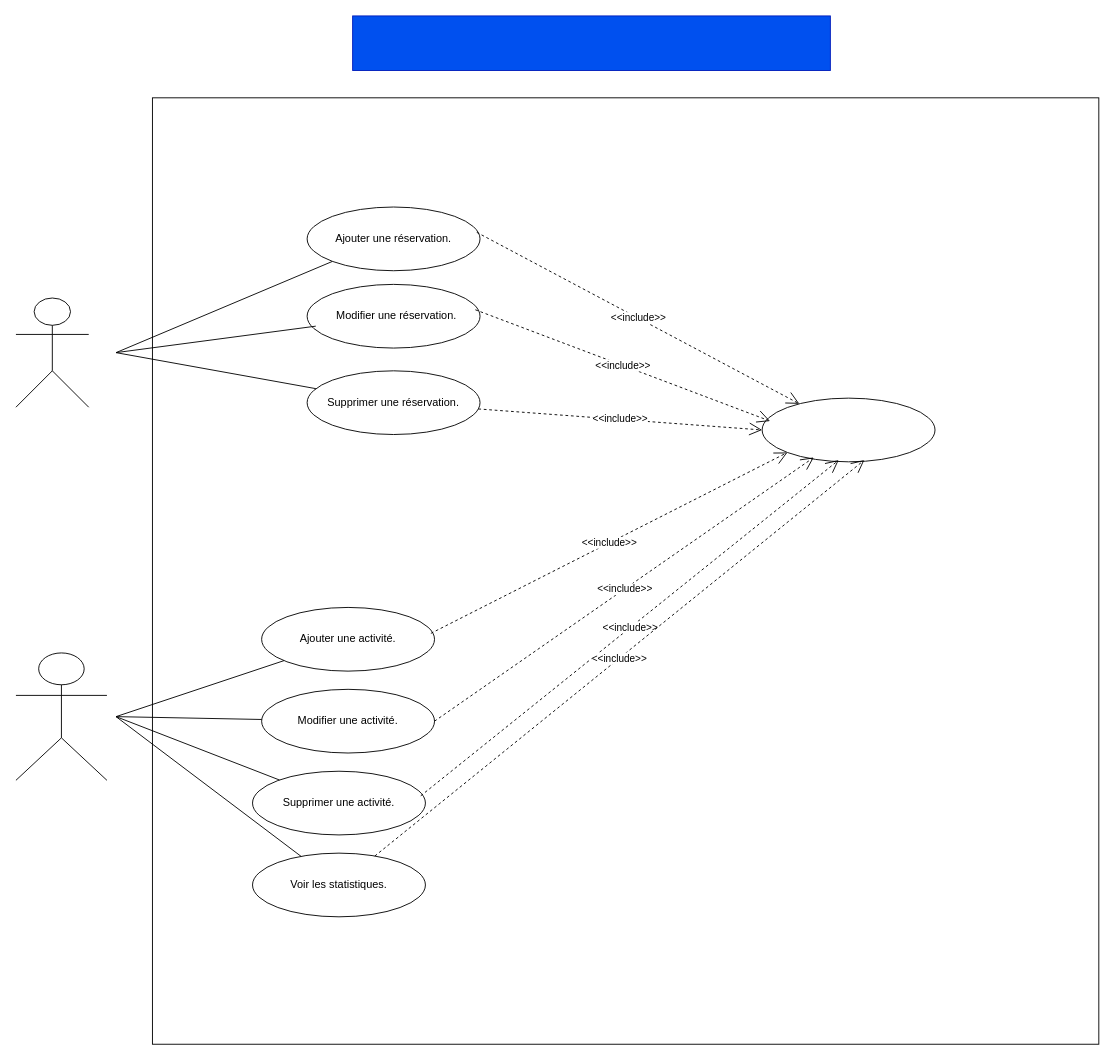
Some shapes in this 1115 by 1060 pixel diagram are drawn without their labels. The shapes that lost their labels are listed below. From the top down, each one's centre as x and y in pixels, then its label:
pixel 591 43: Système de gestion de la salle de sport "The Lost Round"
pixel 52 352: membre
pixel 848 429: s'authentifier
pixel 61 716: administration
